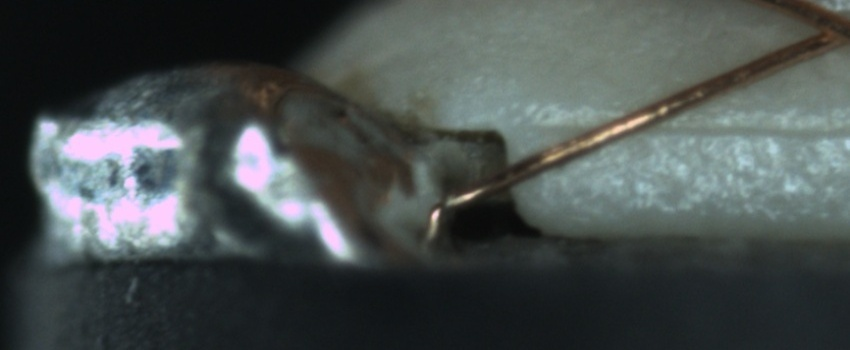CL: (790, 4, 849, 55)
DL: (540, 95, 845, 158)
